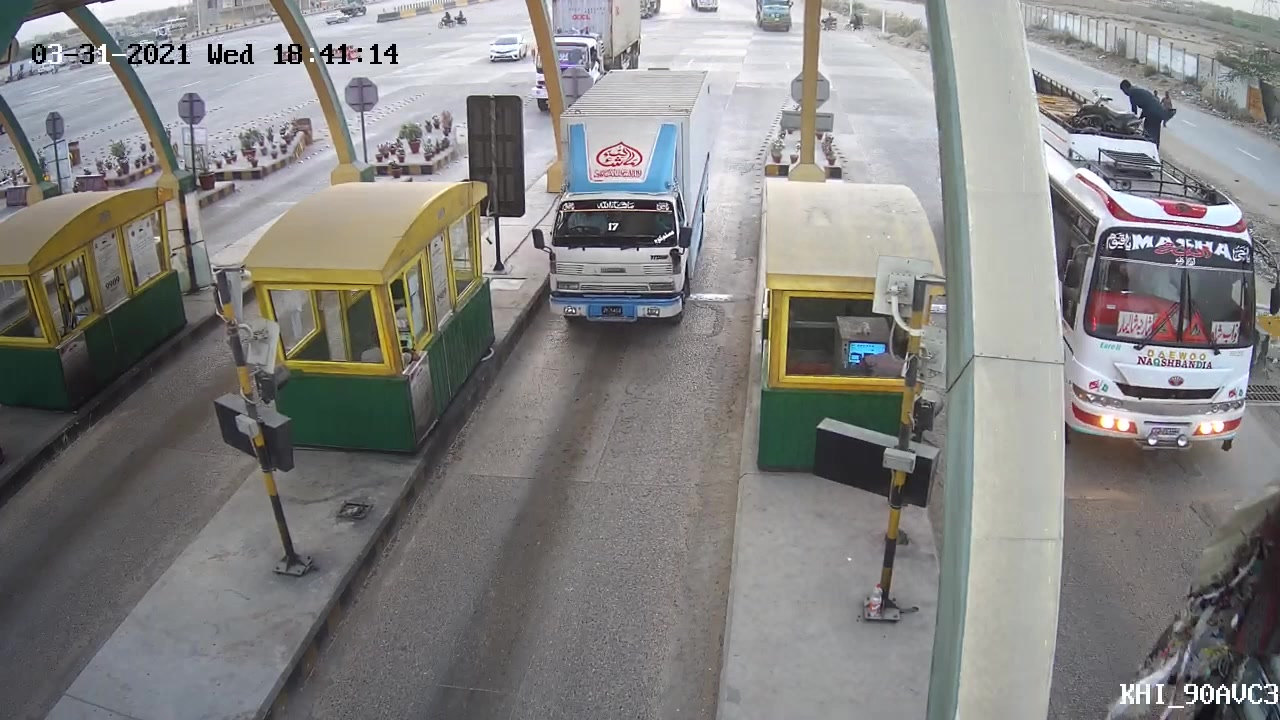F6: (533, 136, 701, 333)
